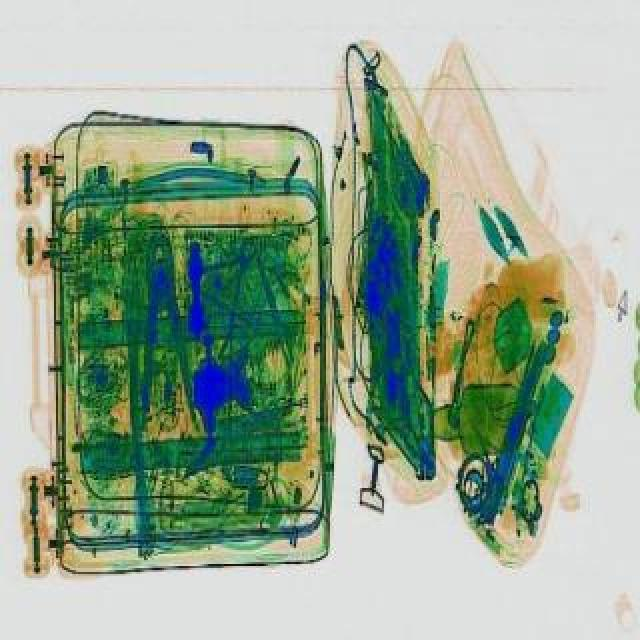wrench: (160, 222, 284, 358), (134, 228, 200, 428)
